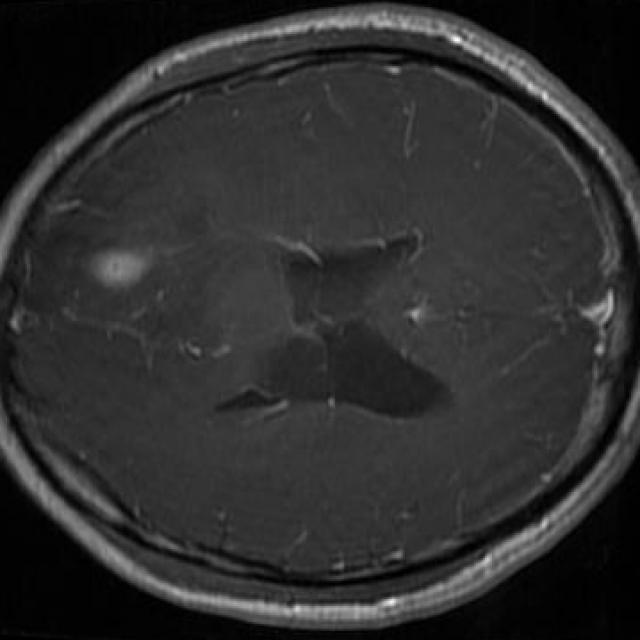glioma: (216, 234, 446, 419)
